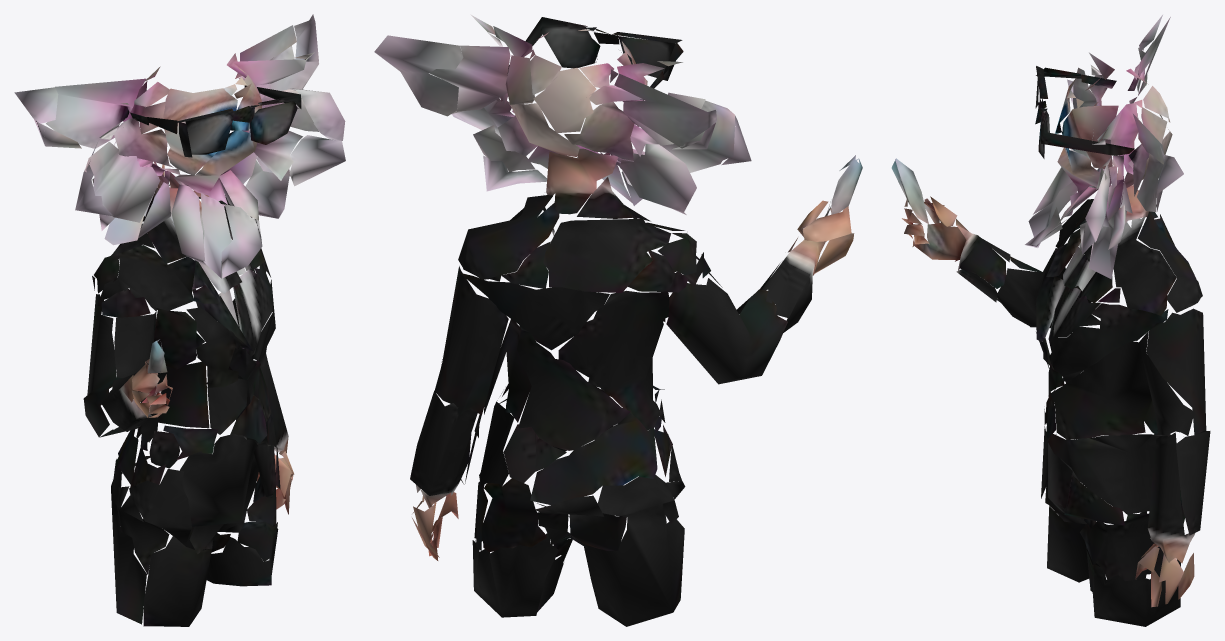
File: crowd_agent_body.glb
3 renders of one model, left to right at view 1: azimuth 30°, elevation 25°; view 2: azimuth 150°, elevation 25°; view 3: azimuth 270°, elevation 25°, orthographic. The views are drawn at different scales.
Visible parts, largest first — view 1: tripo_node_e111ed88-1c94-4514-bc17-035d914ae806; view 2: tripo_node_e111ed88-1c94-4514-bc17-035d914ae806; view 3: tripo_node_e111ed88-1c94-4514-bc17-035d914ae806.
Part boxes in pixels (x1,y1,x2,y2): tripo_node_e111ed88-1c94-4514-bc17-035d914ae806: (14,14,345,626); tripo_node_e111ed88-1c94-4514-bc17-035d914ae806: (374,14,862,626); tripo_node_e111ed88-1c94-4514-bc17-035d914ae806: (891,15,1210,626).
Size of the model in its own units: 0.5133 by 0.8023 by 0.4613.
Materials: 1 (1 with a texture image).
